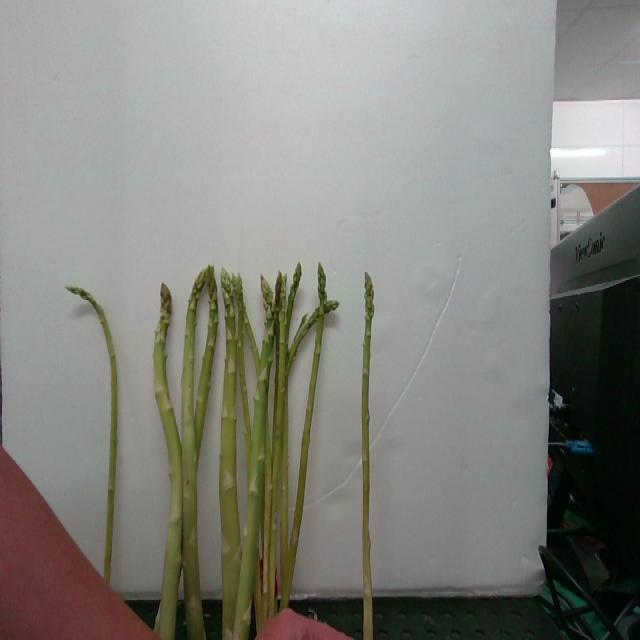aspargus: (69, 288, 119, 587), (360, 273, 376, 640)
